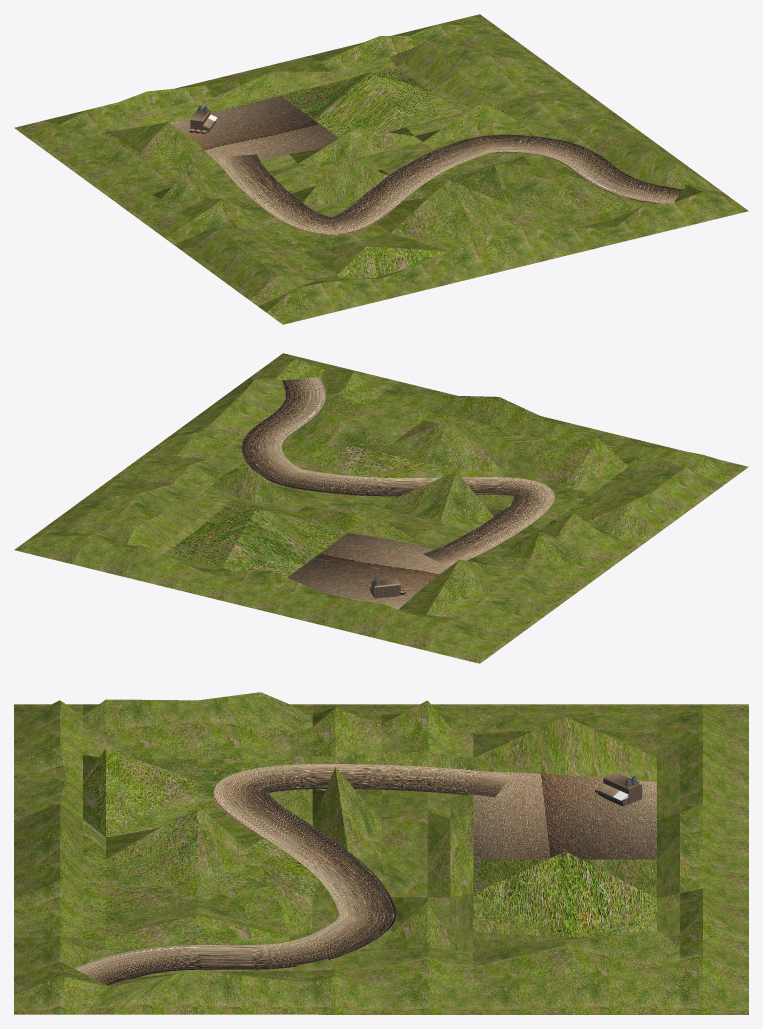
Rendered from floor2.gltf.
3 views of the same model, one above another, from view 1: azimuth 30°, elevation 25°; view 2: azimuth 150°, elevation 25°; view 3: azimuth 270°, elevation 25° (orthographic). The views are drawn at different scales.
Parts seen in each view (by area): view 1: 平面.001, NURBSパス; view 2: 平面.001, NURBSパス; view 3: 平面.001, NURBSパス, 立方体.
Boxes of the visible parts, left/top/right/bottom form: 平面.001: left=14, top=14, right=748, bottom=324; NURBSパス: left=217, top=134, right=682, bottom=234; 平面.001: left=14, top=353, right=748, bottom=663; NURBSパス: left=241, top=376, right=554, bottom=566; 平面.001: left=14, top=692, right=748, bottom=1014; NURBSパス: left=74, top=763, right=512, bottom=985; 立方体: left=603, top=772, right=641, bottom=804.
Size of the model in its own units: 2000 by 197 by 2001.
Materials: 11 (10 with a texture image).
